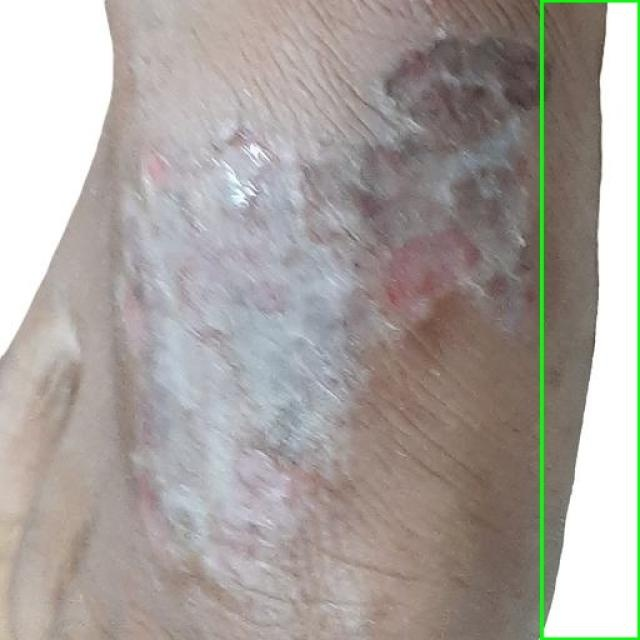Contact Dermatitis: (541, 0, 639, 639)
